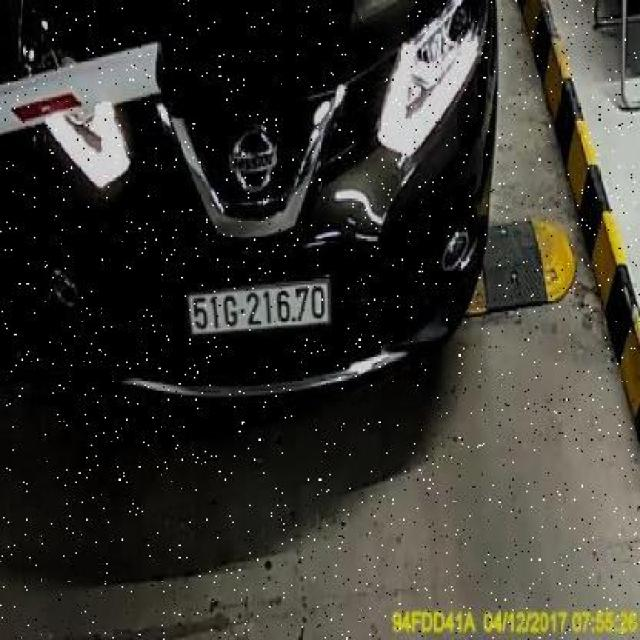number_plate: (184, 277, 334, 335)
